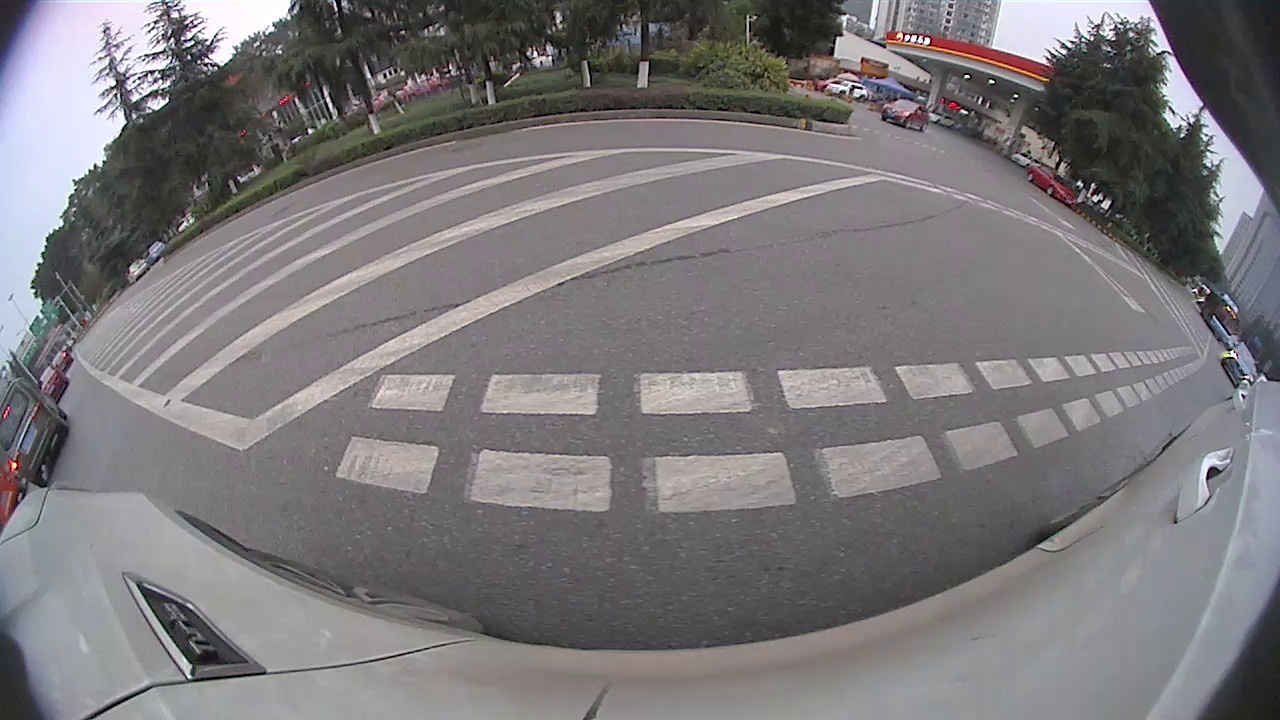car: (225, 27, 514, 213), (954, 186, 1189, 406), (783, 94, 960, 197), (82, 211, 166, 291), (2, 310, 74, 403), (188, 140, 248, 210), (1193, 383, 1243, 451)
front: (409, 136, 457, 189), (928, 170, 950, 195), (226, 170, 249, 192)
rear: (1070, 359, 1122, 405), (268, 174, 299, 213), (834, 135, 864, 165), (194, 189, 208, 208)
